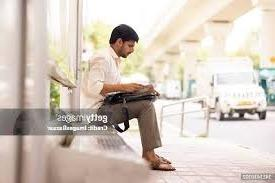Human: (67, 24, 180, 172)
